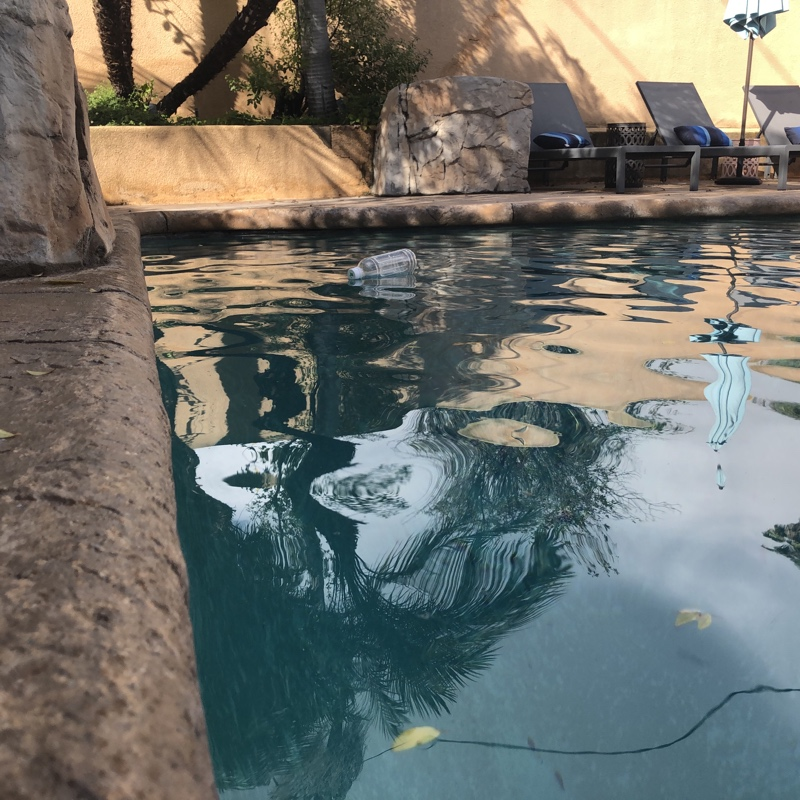Plastic Bottle: (346, 247, 425, 283)
